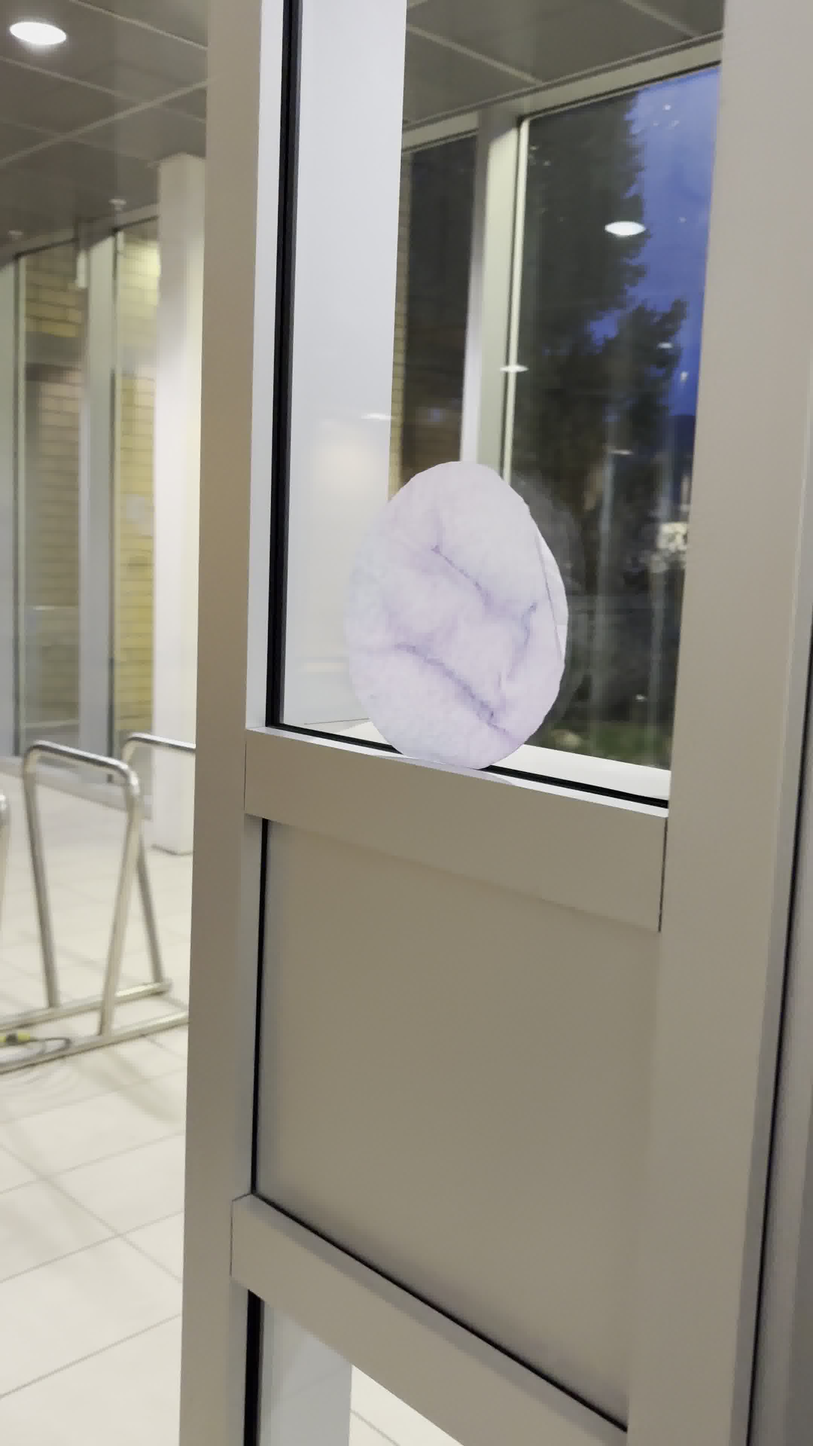Target: (347, 460, 572, 774)
